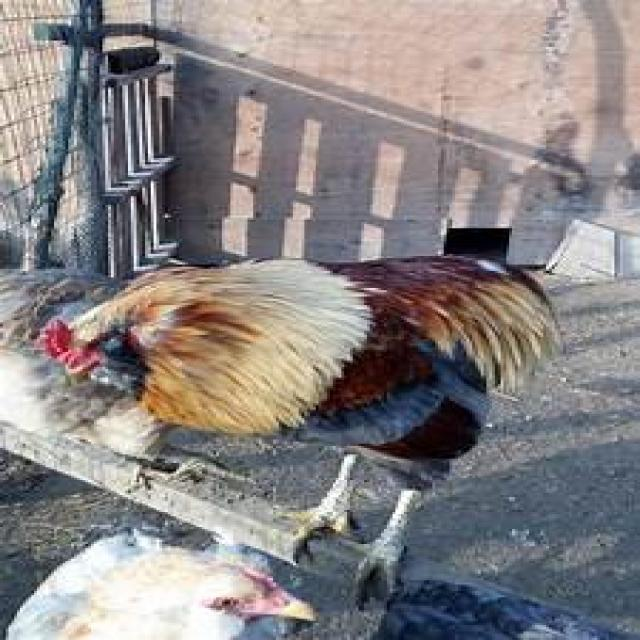animal: (43, 255, 564, 578), (0, 544, 316, 640)
